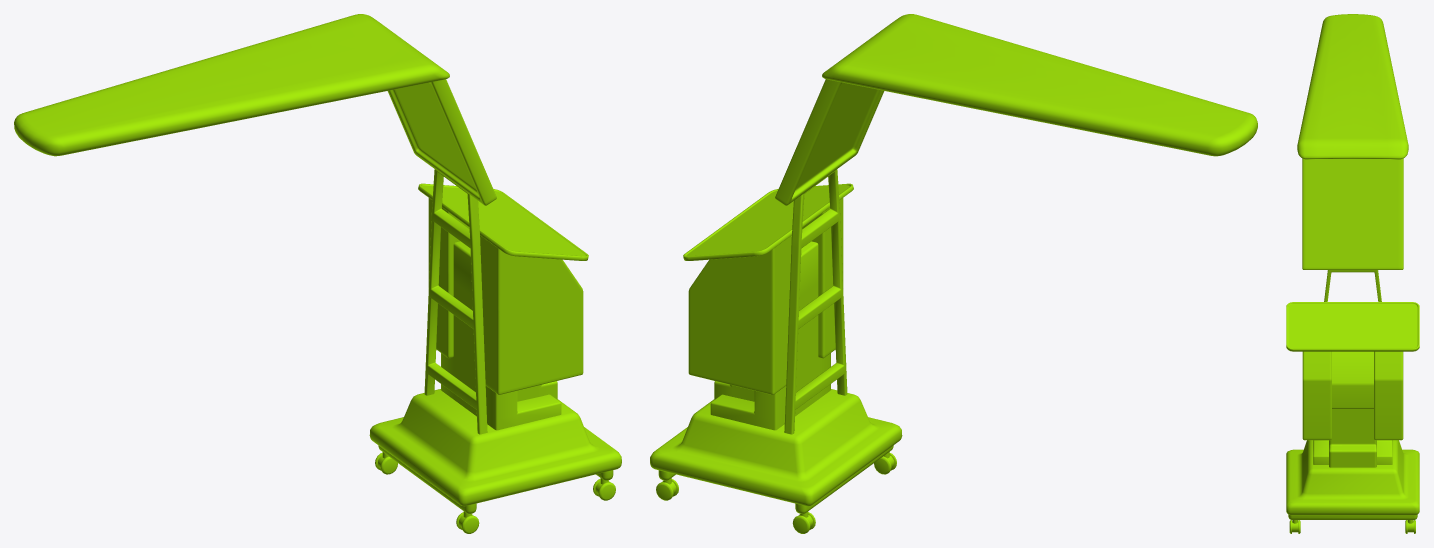
Rendered from Computer01.fbx.
The picture shows the model from 3 angles, left to right: view 1: azimuth 30°, elevation 25°; view 2: azimuth 150°, elevation 25°; view 3: azimuth 270°, elevation 25°; orthographic projection. The views are drawn at different scales.
Parts seen in each view (by area): view 1: SM_Computer01; view 2: SM_Computer01; view 3: SM_Computer01.
Part boxes in pixels (<box>): SM_Computer01: <box>14,14,621,533</box>; SM_Computer01: <box>650,14,1257,533</box>; SM_Computer01: <box>1286,14,1419,533</box>.
Bounding box in the file's own units: 307 × 250 × 90.3.
